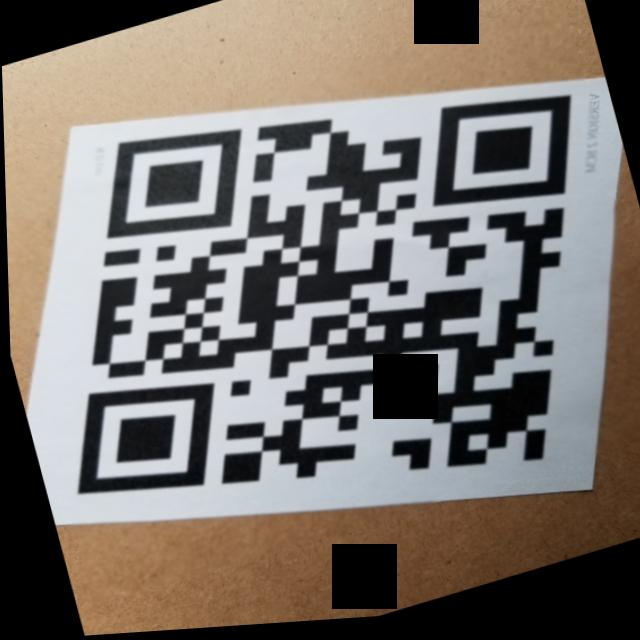QR_CODE: (1, 3, 640, 609)
